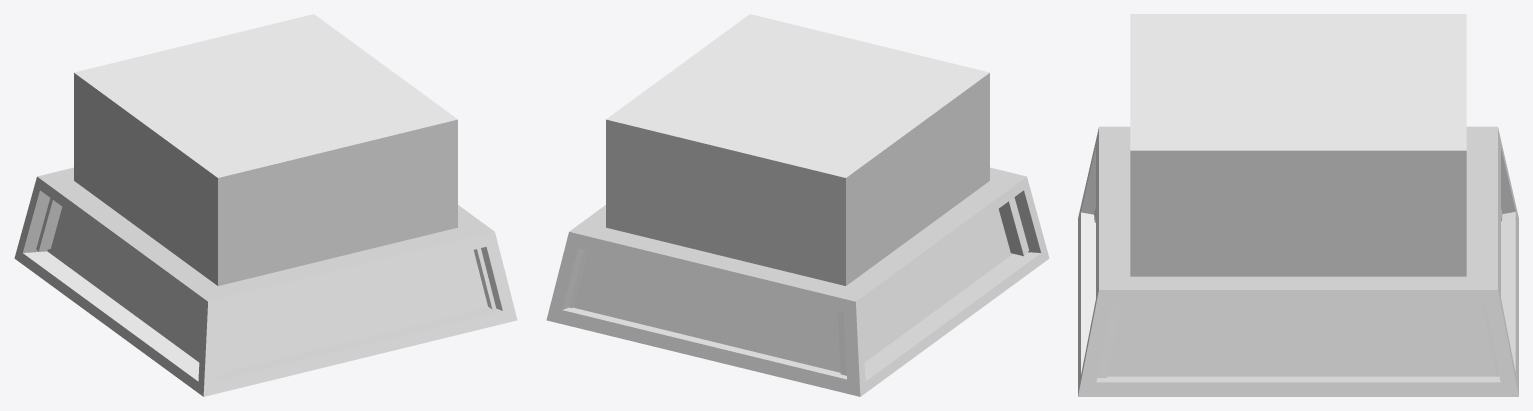
Rendered from Assembler2.fbx.
3 views of the same model, side by side, from view 1: azimuth 30°, elevation 25°; view 2: azimuth 150°, elevation 25°; view 3: azimuth 270°, elevation 25° (orthographic). The views are drawn at different scales.
Parts seen in each view (by area): view 1: Assembler2; view 2: Assembler2; view 3: Assembler2.
Part boxes in pixels (left/top/right/bottom): Assembler2: left=14, top=14, right=517, bottom=396; Assembler2: left=546, top=14, right=1049, bottom=396; Assembler2: left=1078, top=14, right=1518, bottom=396.
Size of the model in its own units: 51.16 by 30.11 by 53.39.
